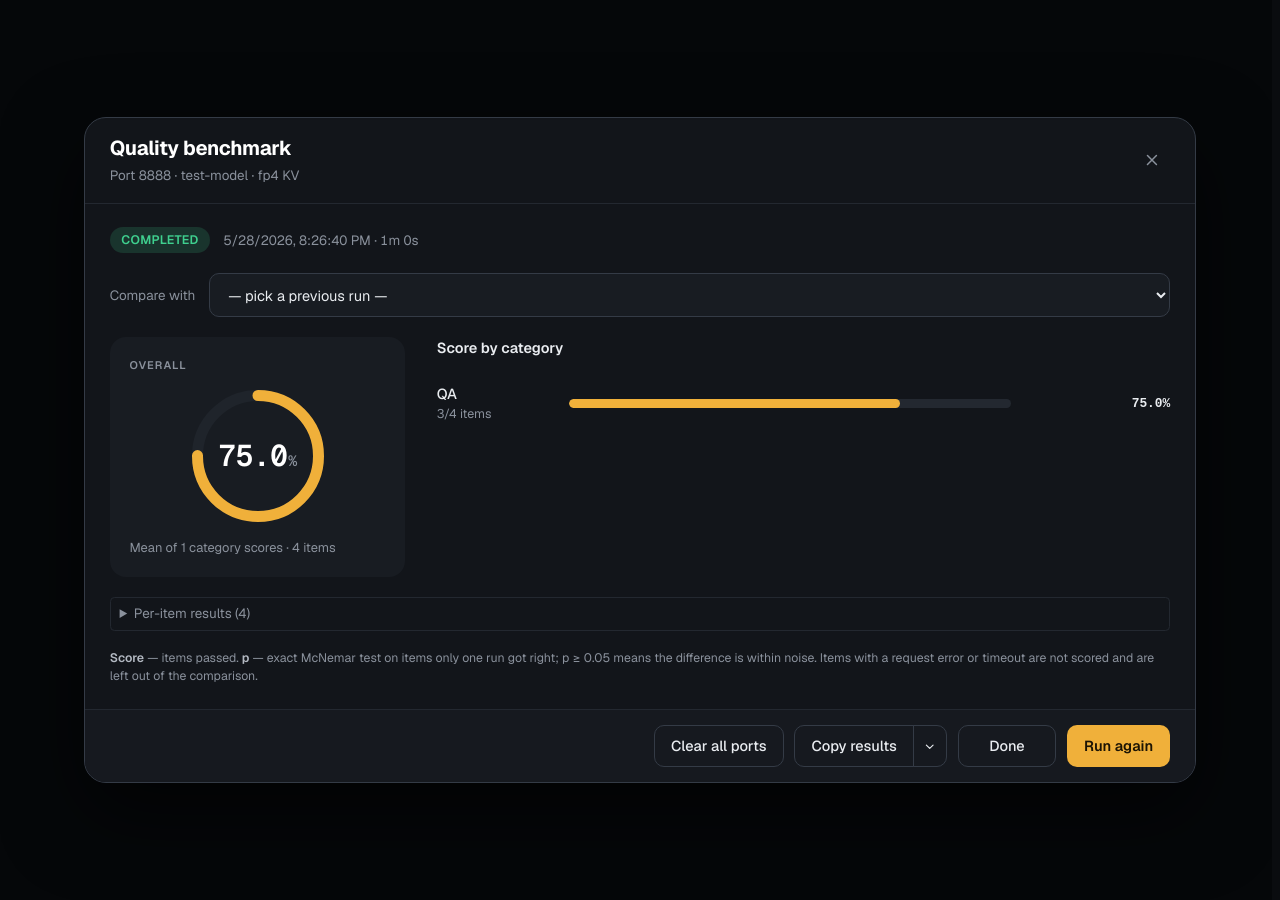
Scenario: QualityBenchDialog › shows the last run's score and compares with a previous run
The width and height of the screenshot is (1280, 900).
Expected: the dialog shows "75.0%", left=1132, top=396, right=1170, bottom=411
Select "May 28, 08:26 PM · bf16 KV · test-model · port 8888 · 75.0%" in the dropdown labelled "Compare with" at coordinates (690, 295), box left=209, top=273, right=1170, bottom=317
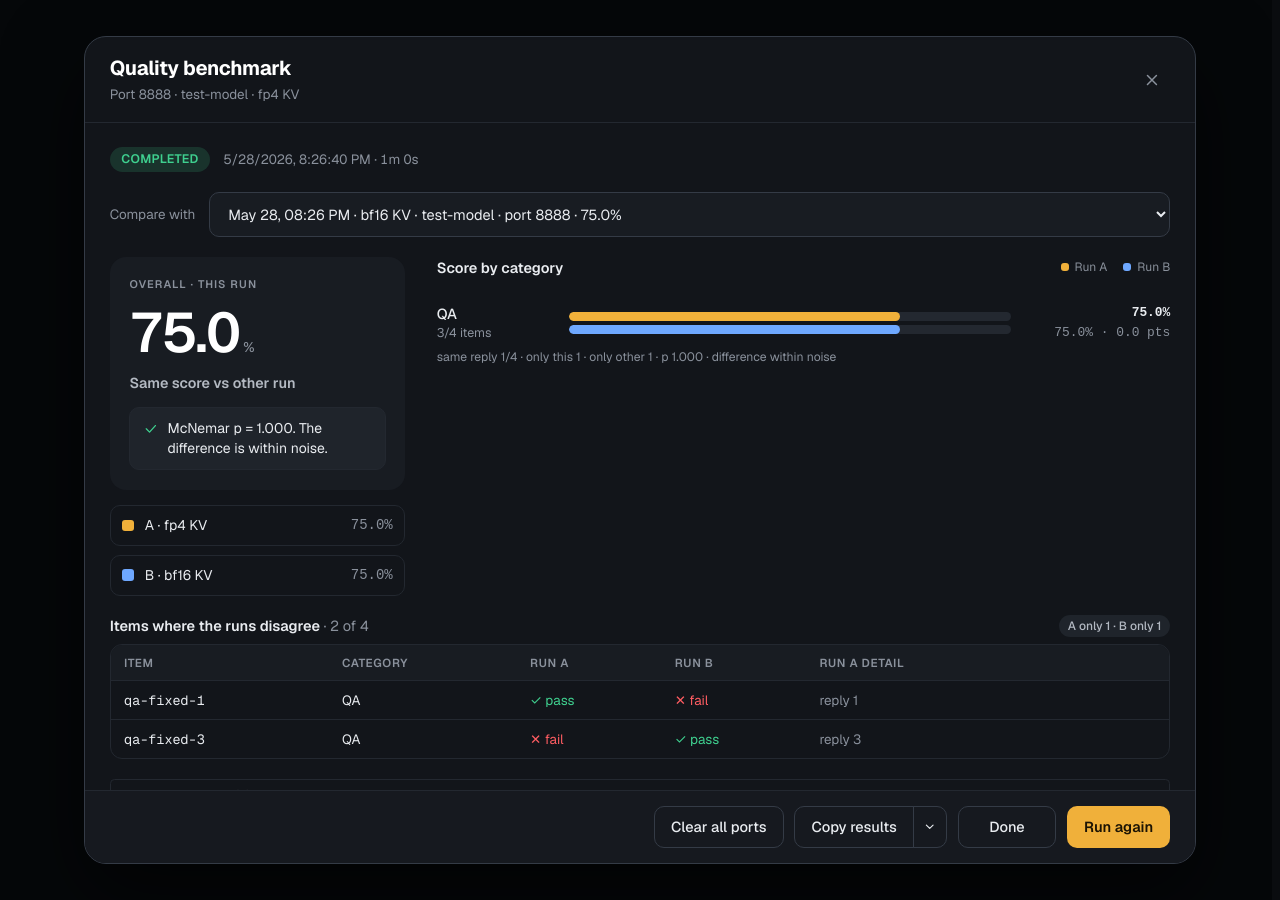
Expected: the dialog shows "difference within noise", left=437, top=349, right=836, bottom=365
Expected: the dialog shows "1/4", left=437, top=349, right=836, bottom=365
